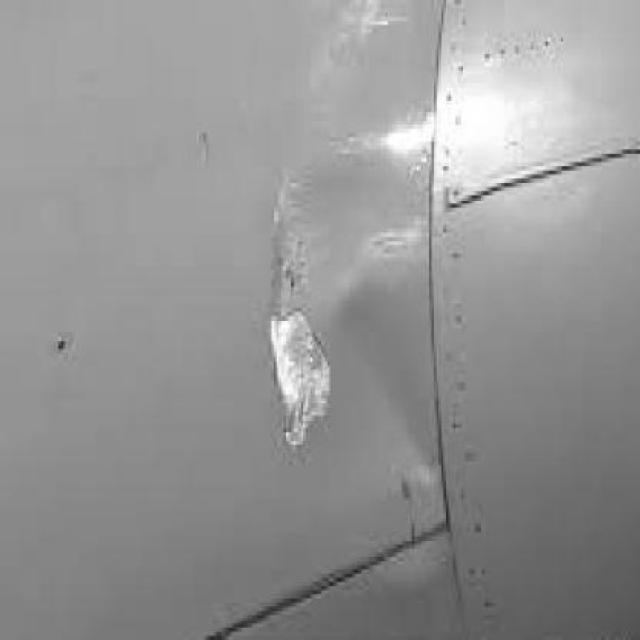dent: (263, 156, 332, 453), (343, 288, 437, 473), (327, 17, 436, 145), (330, 149, 428, 265)
